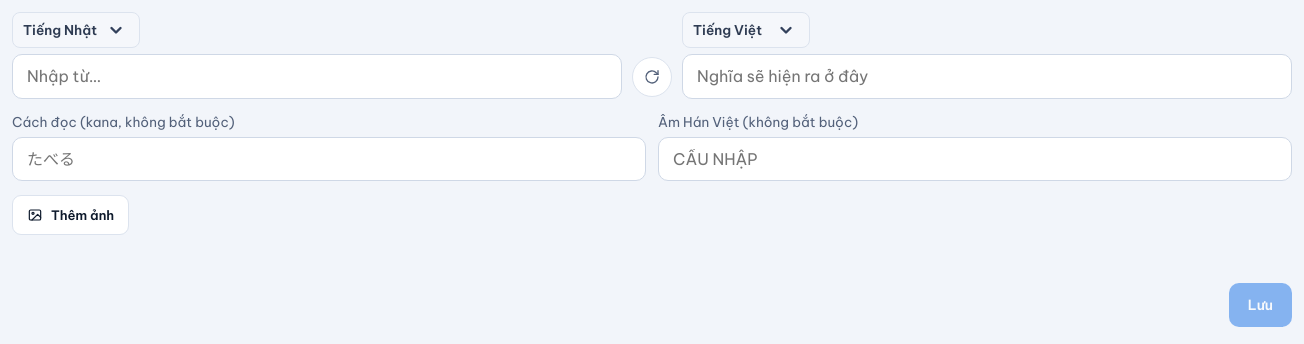
Scenario: CardEditor › never lets both boxes share a language
Select "Tiếng Việt" in the 1st dropdown named "Ngôn ngữ ô bên trái" at point(76, 30), box [12, 12, 140, 48]
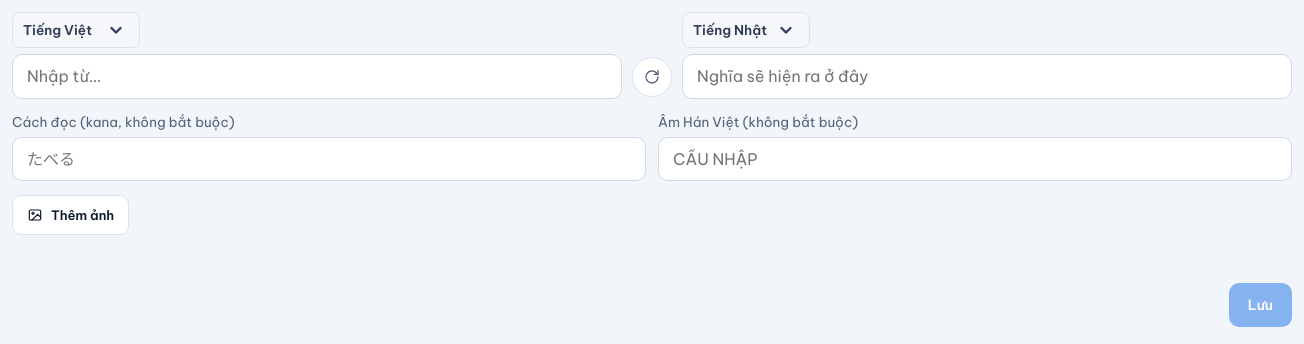
Check: the 2nd dropdown named "Ngôn ngữ ô bên phải" shows "Tiếng Nhật", box [682, 12, 810, 48]
